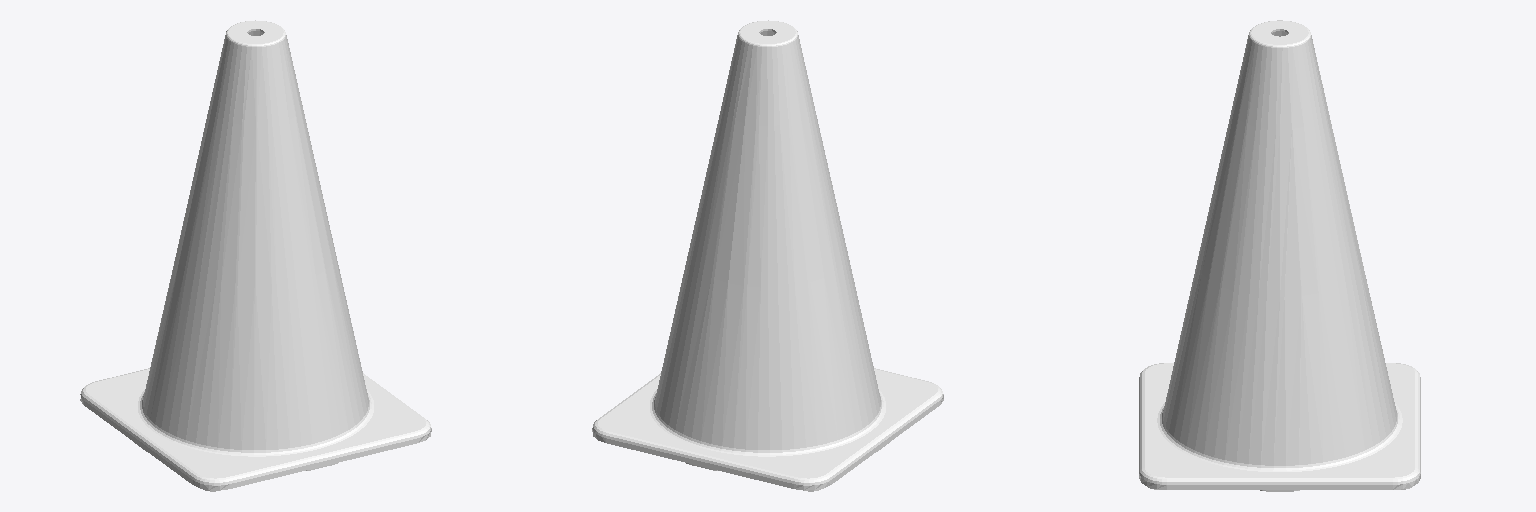
The robot description file, URDF, robot "cone":
<?xml version="1.0" encoding="utf-8"?>
<!-- This URDF was automatically created by SolidWorks to URDF Exporter! Originally created by [author] ([email redacted]) 
     Commit Version: 1.6.0-4-g7f85cfe  Build Version: 1.6.7995.38578
     For more information, please see http://wiki.ros.org/sw_urdf_exporter -->
<robot
  name="cone">
  <link
    name="base_link">
    <inertial>
      <origin
        xyz="-0.0083035 0.01367 0.2302"
        rpy="0 0 0" />
      <mass
        value="3.491" />
      <inertia
        ixx="0.24359"
        ixy="-1.0736E-06"
        ixz="-1.0597E-06"
        iyy="0.24358"
        iyz="-6.214E-06"
        izz="0.1227" />
    </inertial>
    <visual>
      <origin
        xyz="0 0 0"
        rpy="0 0 0" />
      <geometry>
        <mesh
          filename="package://hangar_model/obstacles/cone/meshes/cone.dae" />
      </geometry>
      <material
        name="">
        <color
          rgba="1 1 1 1" />
      </material>
    </visual>
    <collision>
      <origin
        xyz="0 0 0"
        rpy="0 0 0" />
      <geometry>
        <mesh
          filename="package://hangar_model/obstacles/cone/meshes/cone.dae" />
      </geometry>
    </collision>
  </link>
</robot>

--- What the picture shows (computed from the rendered views, not written in the file) ---
3 views of the same robot in one strip: view 1: azimuth 30°, elevation 25°; view 2: azimuth 150°, elevation 25°; view 3: azimuth 270°, elevation 25° (orthographic).
Model cone with 1 links and 0 joints (none), rooted at base_link, posed all joints at 0.
Links seen in each view (by area): view 1: base_link; view 2: base_link; view 3: base_link.
Boxes of the visible links, <box> form: base_link: <box>80,20,431,491</box>; base_link: <box>592,20,943,491</box>; base_link: <box>1139,20,1420,491</box>.
Bounding box of the posed robot: 0.5007 × 0.5007 × 0.784 m (x, y, z).
1 mesh visuals loaded from 1 distinct referenced files (1 Collada DAE).
